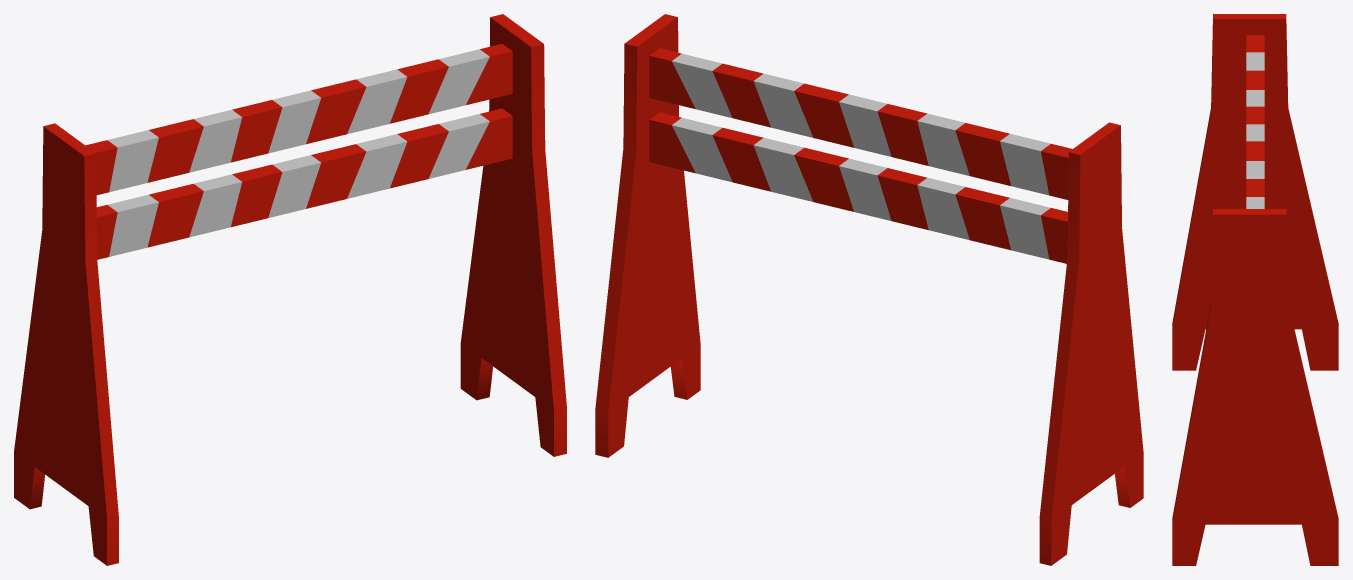
Rendered from palete.dae.
The picture shows the model from 3 angles, left to right: view 1: azimuth 30°, elevation 25°; view 2: azimuth 150°, elevation 25°; view 3: azimuth 270°, elevation 25°; orthographic projection. The views are drawn at different scales.
Parts seen in each view (by area): view 1: suporte1, suporte2, tabua2, tabua1; view 2: suporte1, suporte2, tabua2, tabua1; view 3: suporte2, suporte1, tabua2.
Boxes of the visible parts, left/top/right/bottom form: suporte1: left=14, top=123, right=118, bottom=565; suporte2: left=460, top=14, right=566, bottom=456; tabua2: left=85, top=44, right=512, bottom=195; tabua1: left=96, top=108, right=512, bottom=259; suporte1: left=1039, top=122, right=1143, bottom=565; suporte2: left=595, top=14, right=700, bottom=457; tabua2: left=649, top=48, right=1072, bottom=199; tabua1: left=649, top=112, right=1067, bottom=263; suporte2: left=1172, top=209, right=1338, bottom=565; suporte1: left=1172, top=14, right=1338, bottom=370; tabua2: left=1246, top=35, right=1264, bottom=208.
Size of the model in its own units: 3.32 by 2.71 by 1.16.
